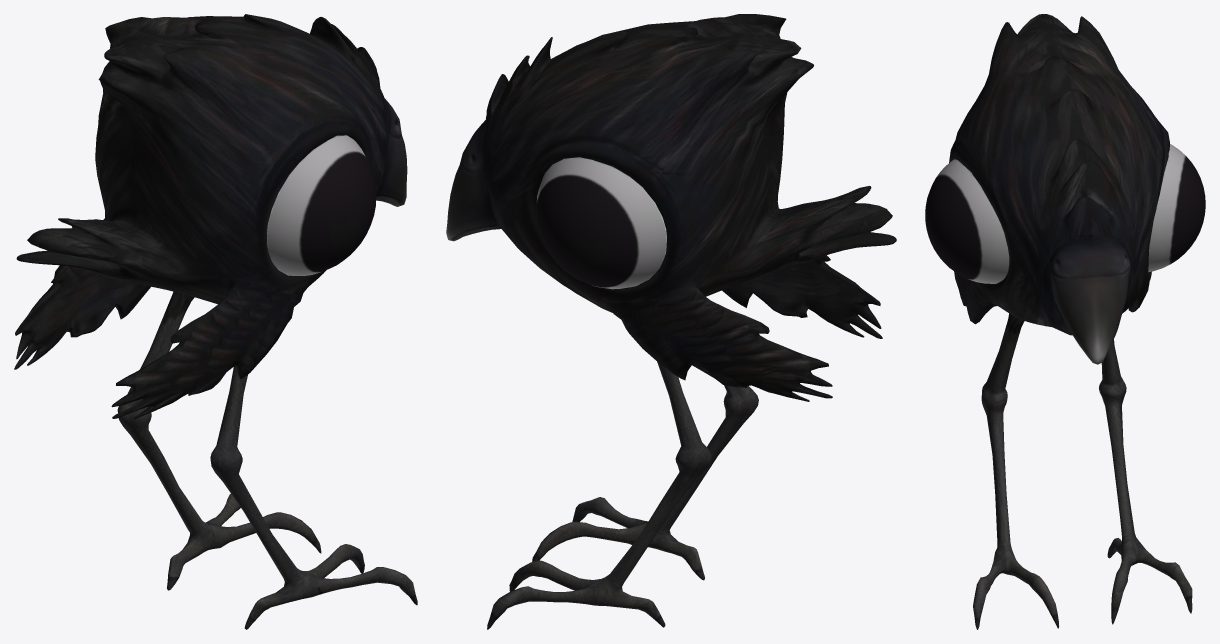
File: warrior_blackbird.fbx
3 views of the same model, side by side, from view 1: azimuth 30°, elevation 25°; view 2: azimuth 150°, elevation 25°; view 3: azimuth 270°, elevation 25° (orthographic). The views are drawn at different scales.
Visible parts, largest first — view 1: root; view 2: root; view 3: root.
Boxes of the visible parts, x1,y1,x2,y2 form: root: [14, 14, 417, 629]; root: [446, 14, 896, 629]; root: [925, 14, 1205, 629].
Size of the model in its own units: 0.3782 by 0.512 by 0.2545.
Materials: 1 (1 with a texture image).
